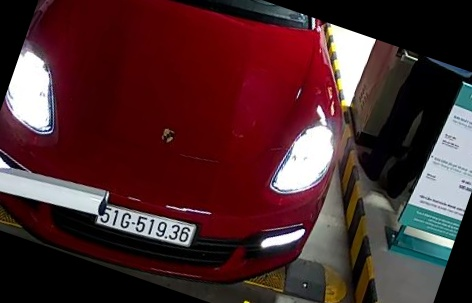plate: (91, 198, 200, 250)
